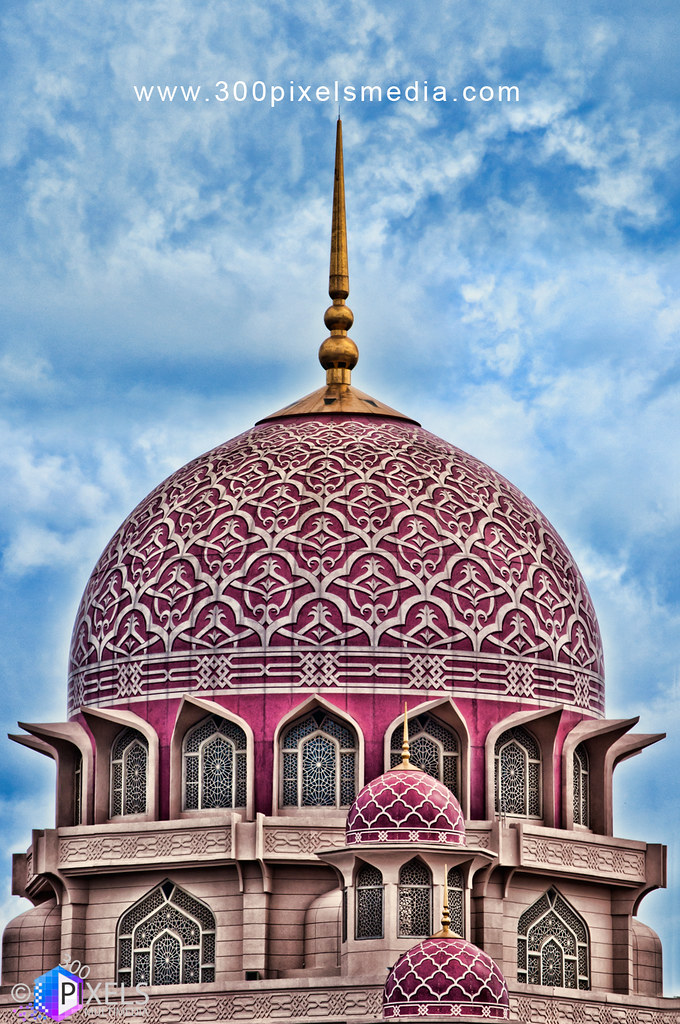Mosque: (56, 96, 603, 1005)
